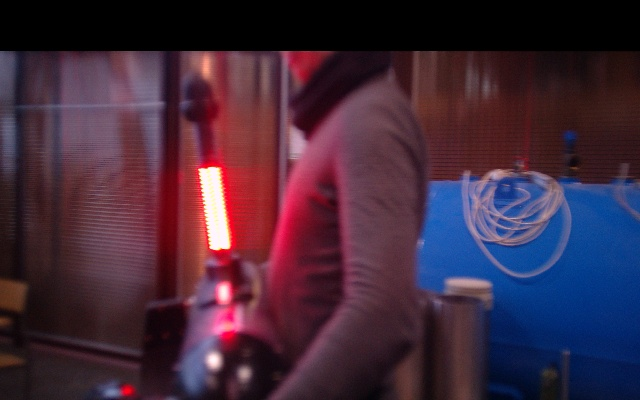red: (196, 164, 233, 255)
